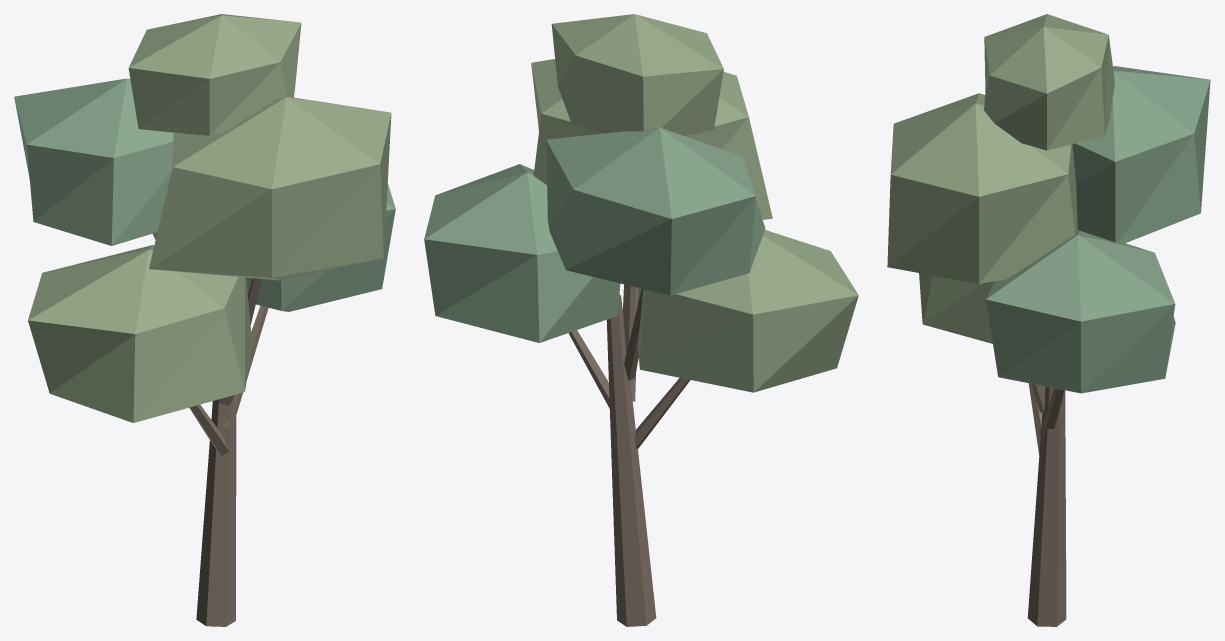
3 renders of one model, left to right at view 1: azimuth 30°, elevation 25°; view 2: azimuth 150°, elevation 25°; view 3: azimuth 270°, elevation 25°, orthographic.
Bounding box in the file's own units: 13 × 19.29 × 9.49.
